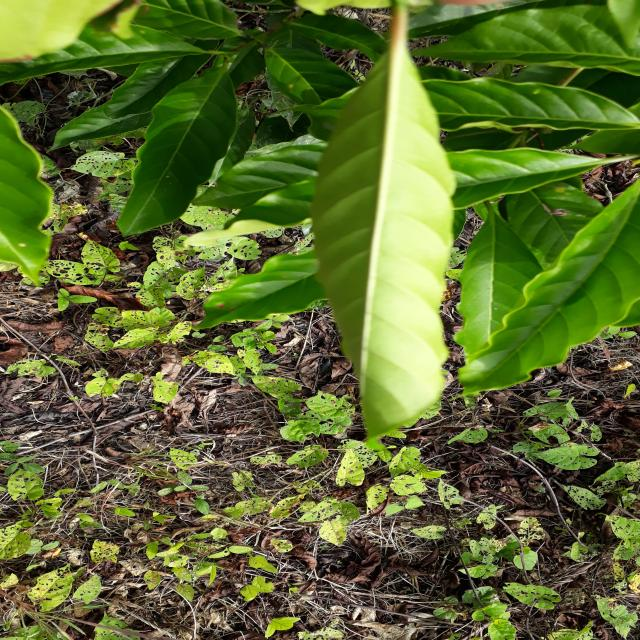Sanas: (312, 0, 457, 444)
